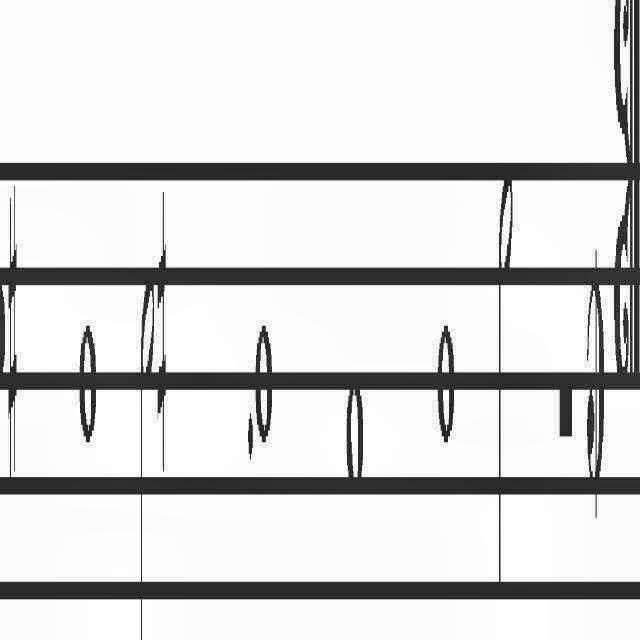Diez: (6, 176, 18, 494), (156, 198, 168, 494)
Full-note: (436, 299, 456, 456), (254, 311, 274, 453), (78, 322, 98, 453), (346, 369, 366, 497), (0, 279, 6, 396)
Half-note: (497, 154, 513, 606), (140, 268, 156, 640)
